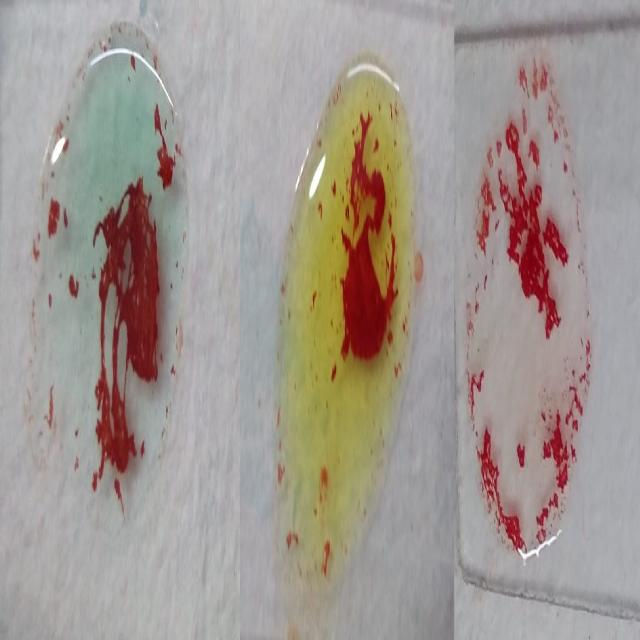A: (40, 45, 185, 543)
B: (279, 51, 409, 596)
D: (462, 55, 589, 569)
